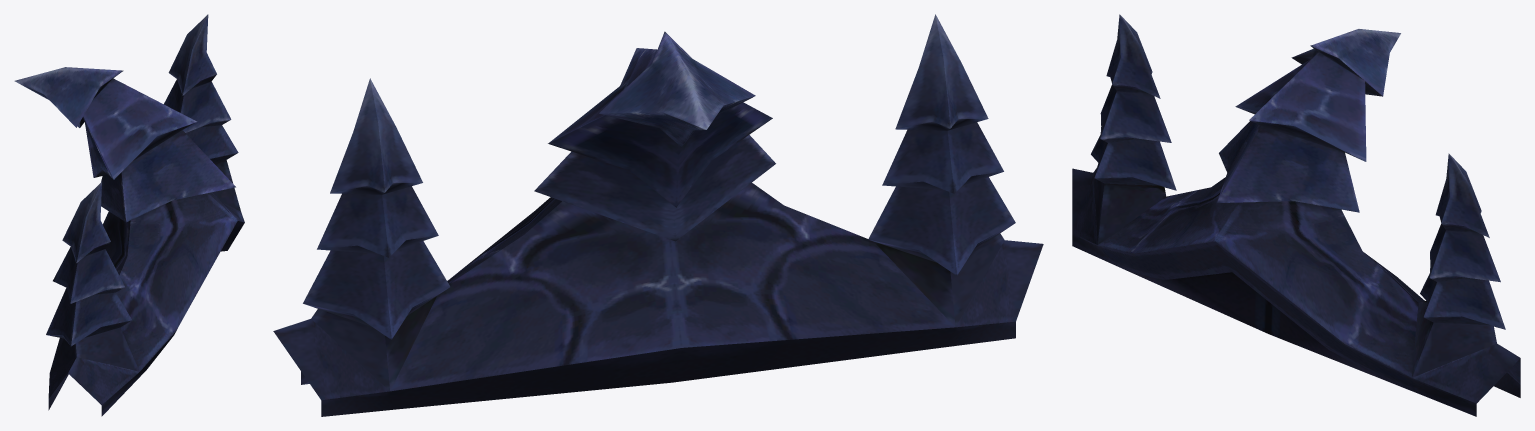
Rendered from palace_rail_diagonal_01.fbx.
3 renders of one model, left to right at view 1: azimuth 30°, elevation 25°; view 2: azimuth 150°, elevation 25°; view 3: azimuth 270°, elevation 25°, orthographic. The views are drawn at different scales.
Visible parts, largest first — view 1: palace_tileset/palace_railing01_mat; view 2: palace_tileset/palace_railing01_mat; view 3: palace_tileset/palace_railing01_mat.
Boxes of the visible parts, bbox=[...] form: palace_tileset/palace_railing01_mat: bbox=[14, 14, 244, 416]; palace_tileset/palace_railing01_mat: bbox=[273, 14, 1043, 416]; palace_tileset/palace_railing01_mat: bbox=[1072, 14, 1520, 416].
Size of the model in its own units: 4 by 2.66 by 4.
